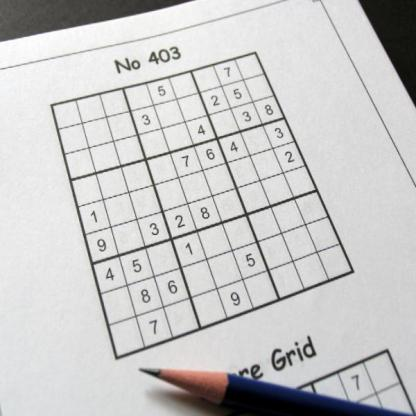sudoku: (46, 50, 360, 361)
